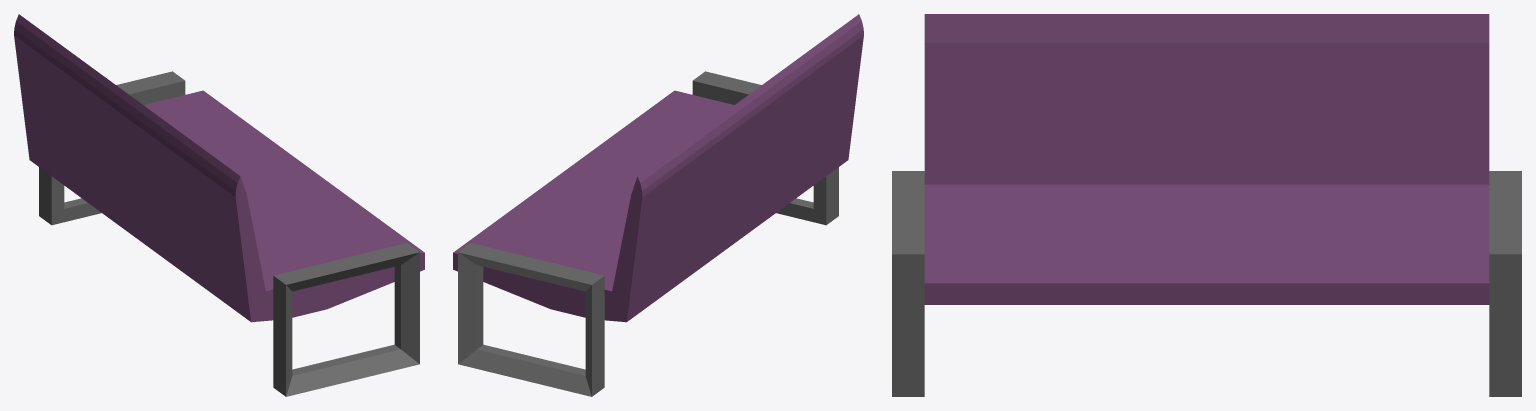
Rendered from Bench.fbx.
3 views of the same model, side by side, from view 1: azimuth 30°, elevation 25°; view 2: azimuth 150°, elevation 25°; view 3: azimuth 270°, elevation 25° (orthographic). The views are drawn at different scales.
Parts seen in each view (by area): view 1: Asiento, Pata Der.001, Pata Izq.001; view 2: Asiento, Pata Izq.001, Pata Der.001; view 3: Asiento, Pata Der.001, Pata Izq.001.
Part boxes in pixels (box(x1,y1,x2,y2)): Asiento: box(14, 14, 424, 322); Pata Der.001: box(273, 243, 419, 396); Pata Izq.001: box(39, 71, 185, 225); Asiento: box(453, 14, 863, 322); Pata Izq.001: box(458, 243, 604, 396); Pata Der.001: box(692, 71, 838, 225); Asiento: box(924, 14, 1489, 304); Pata Der.001: box(892, 171, 924, 396); Pata Izq.001: box(1489, 171, 1521, 396).
Size of the model in its own units: 98.64 by 109 by 223.
